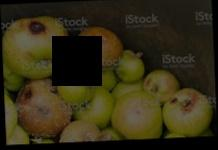rotten apple: (2, 14, 75, 75), (14, 76, 69, 134), (161, 85, 216, 135), (71, 26, 124, 68), (143, 67, 184, 100), (63, 119, 102, 142)
